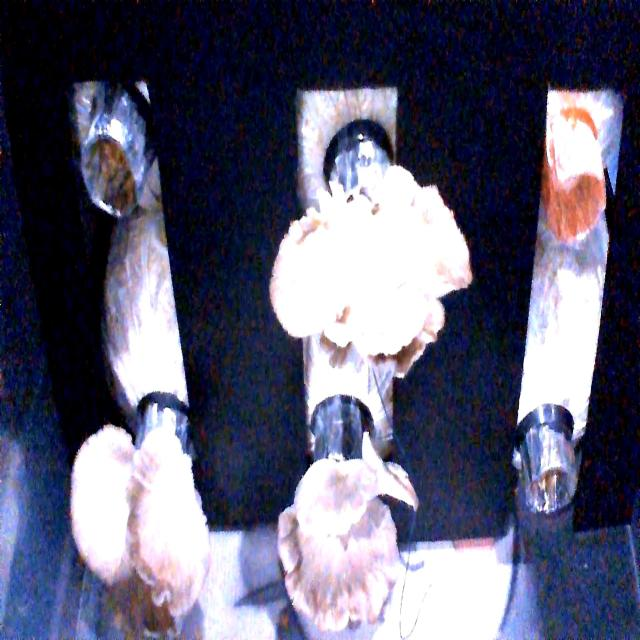big: (276, 202, 464, 351), (71, 437, 206, 609), (275, 455, 407, 629)
nfound: (78, 137, 136, 223), (548, 176, 602, 244), (530, 458, 572, 521)
